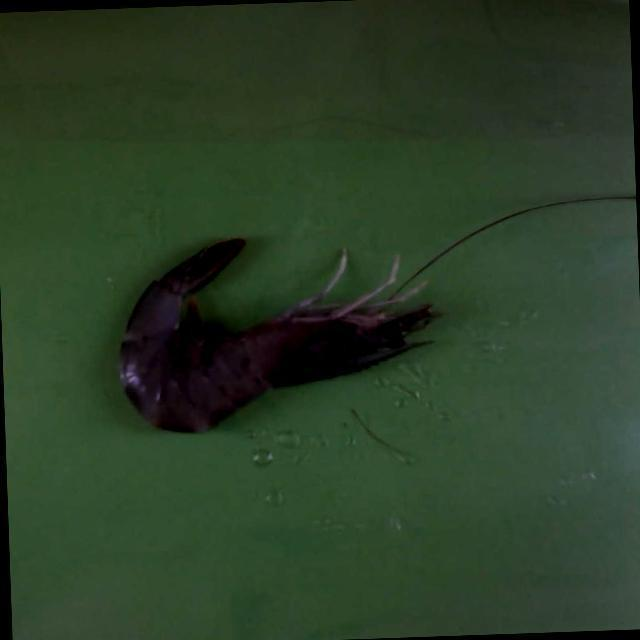shrimp: (118, 238, 431, 430)
